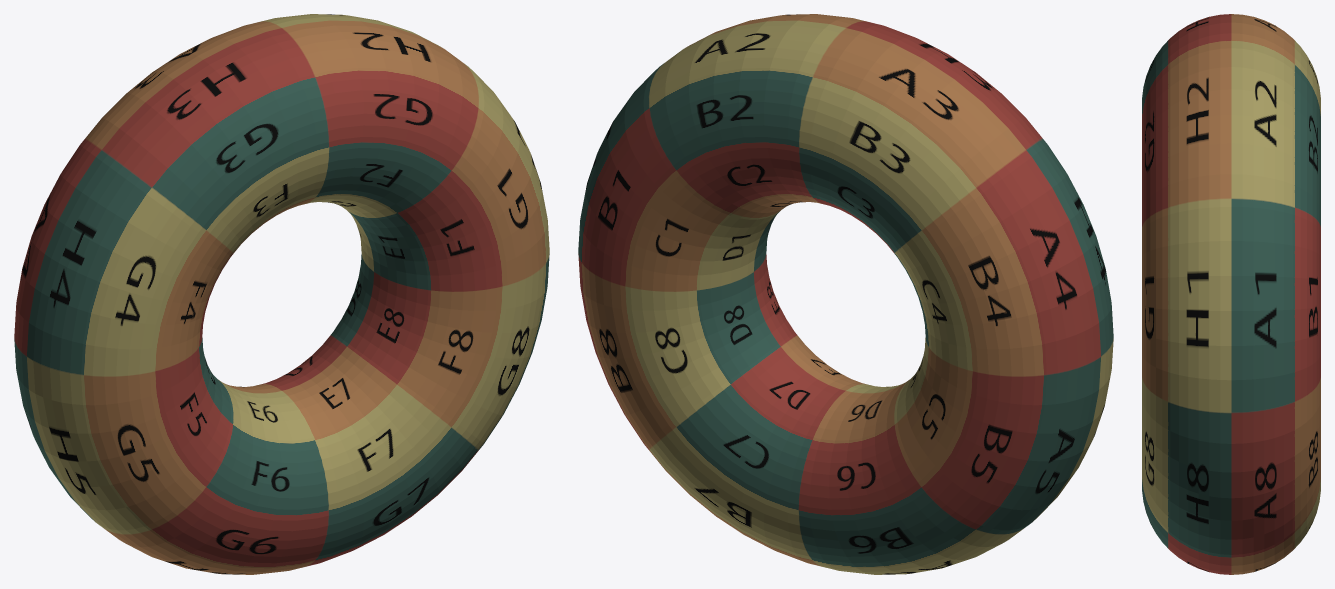
Rendered from texture_torus_R11_r23.glb.
The picture shows the model from 3 angles, left to right: view 1: azimuth 30°, elevation 25°; view 2: azimuth 150°, elevation 25°; view 3: azimuth 270°, elevation 25°; orthographic projection. The views are drawn at different scales.
Parts seen in each view (by area): view 1: world; view 2: world; view 3: world.
Boxes of the visible parts, x1,y1,x2,y2 form: world: (14,14,549,574); world: (578,14,1113,574); world: (1142,14,1320,574).
Bounding box in the file's own units: 25.47 × 25.42 × 8.12.
1 material, 1 textured.
